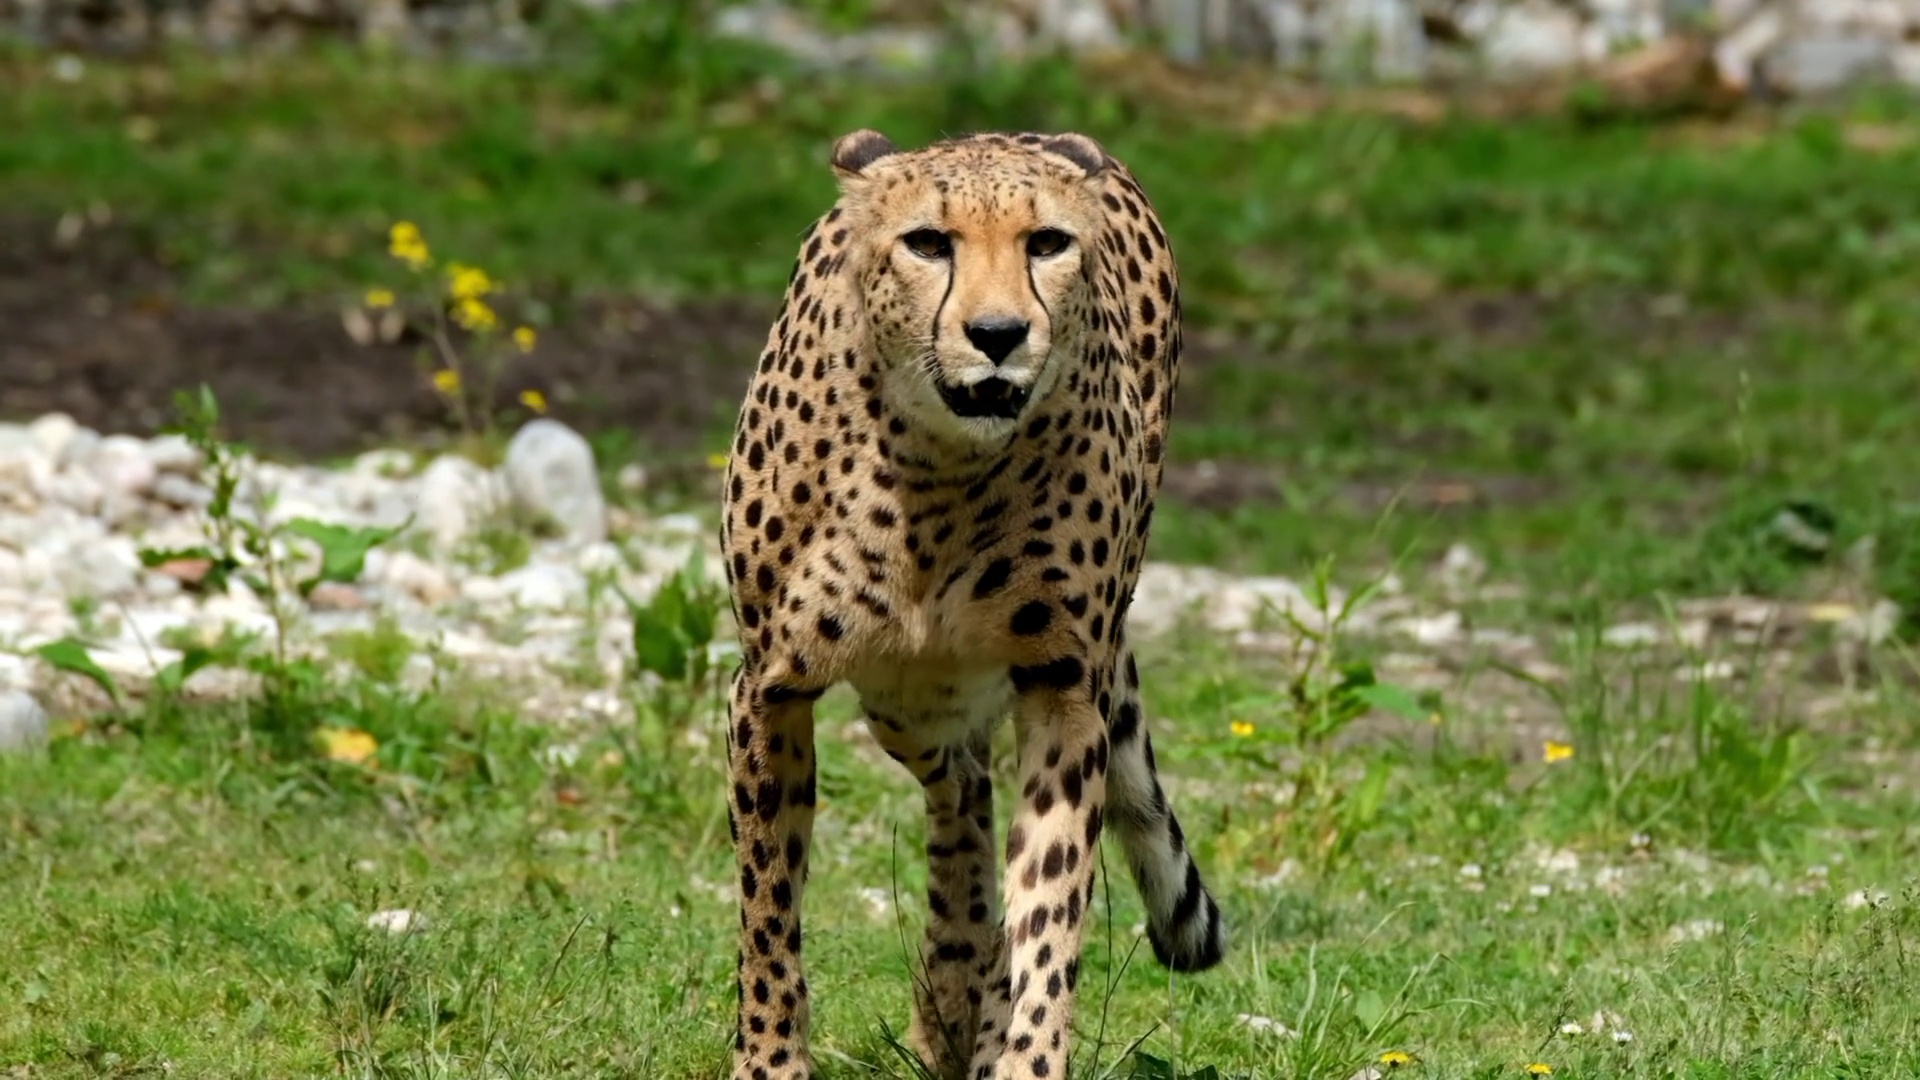Cheetah: (704, 125, 1233, 1080)
